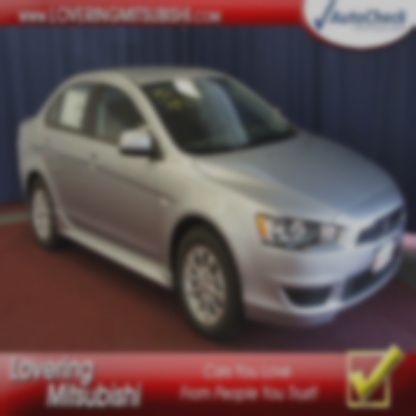Vehicle: (17, 60, 408, 345)
